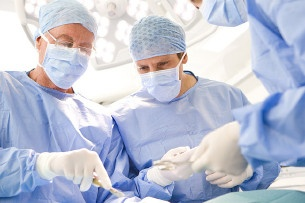Mask: (36, 31, 94, 89)
